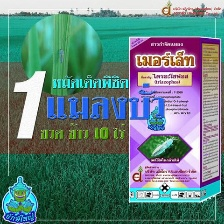carton: (126, 34, 224, 205)
